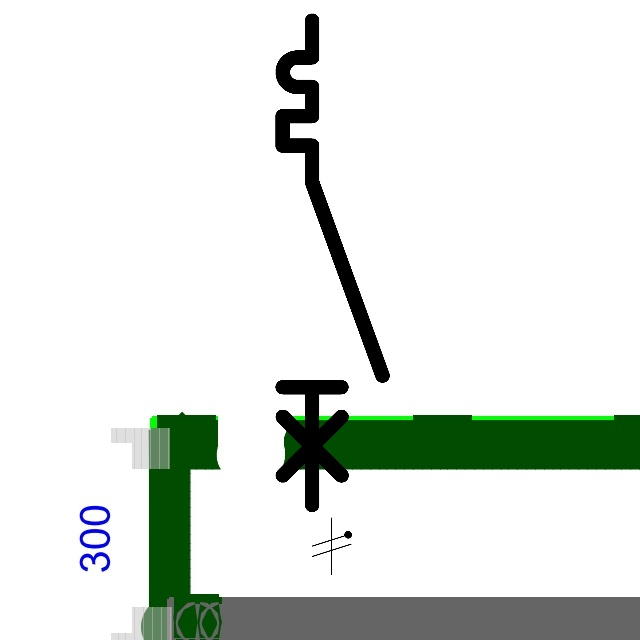interruptor_termomagnetico: (270, 8, 394, 517)
